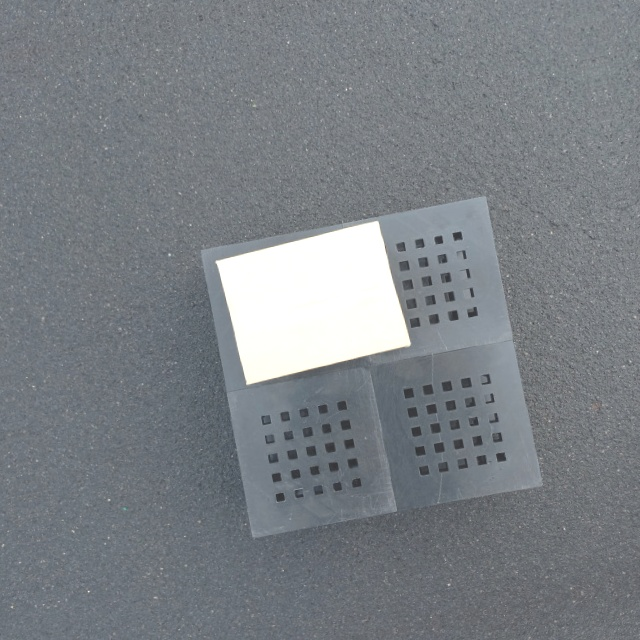pallet: (200, 191, 551, 547)
